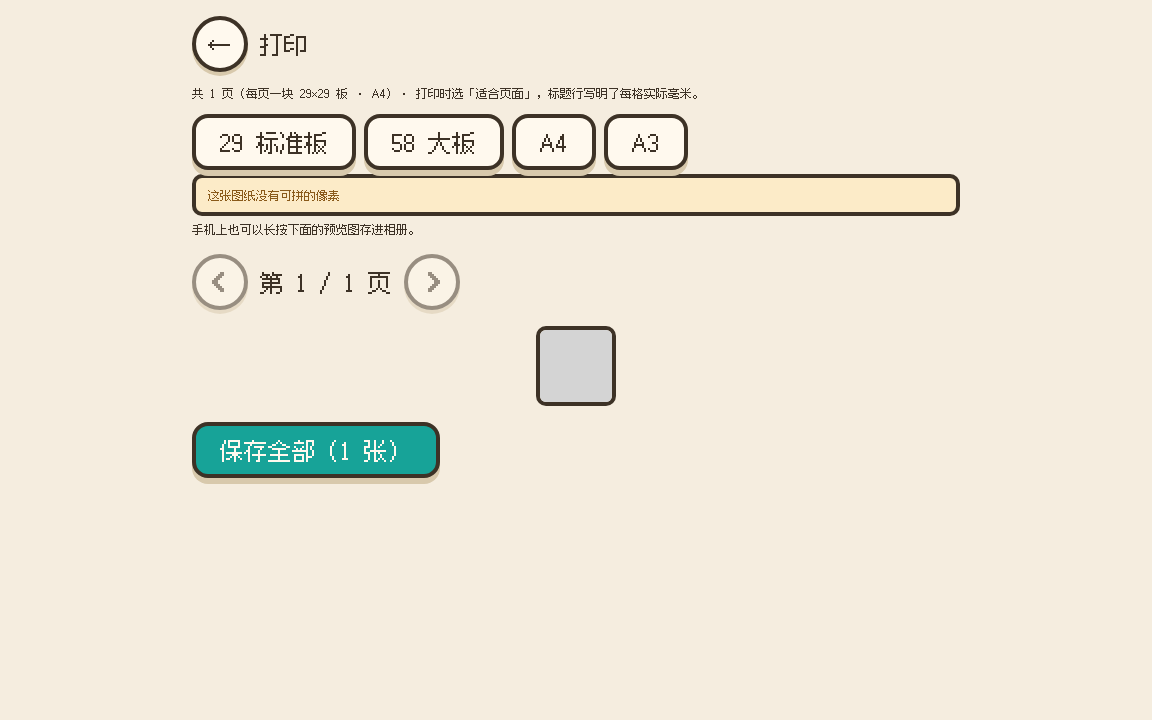
it: 空图纸与 props 驱动（规格 §10.4 / §2b） › 用量表为空时给一行如实说明，不拦也不假装成功
Expected: the text with test id "export-empty-note" reads "这张图纸没有可拼的像素", 208,187 -> 340,203
Click the button with test id "print-save-all" at coordinates (316, 450), box 192,422 -> 440,478
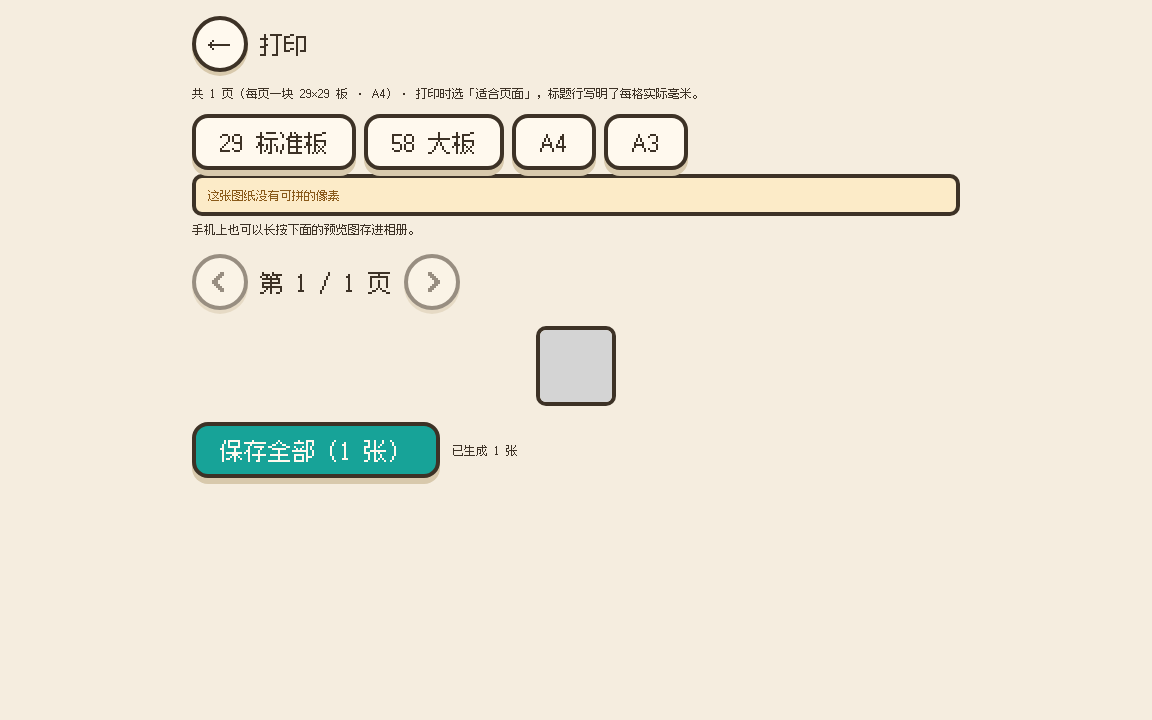
Expected: the text with test id "print-save-state" reads "已生成 1 张", 452,442 -> 518,458
